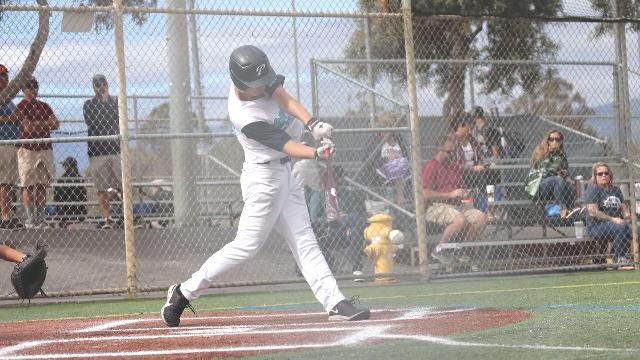ball: (389, 229, 407, 246)
bat: (321, 146, 343, 230)
